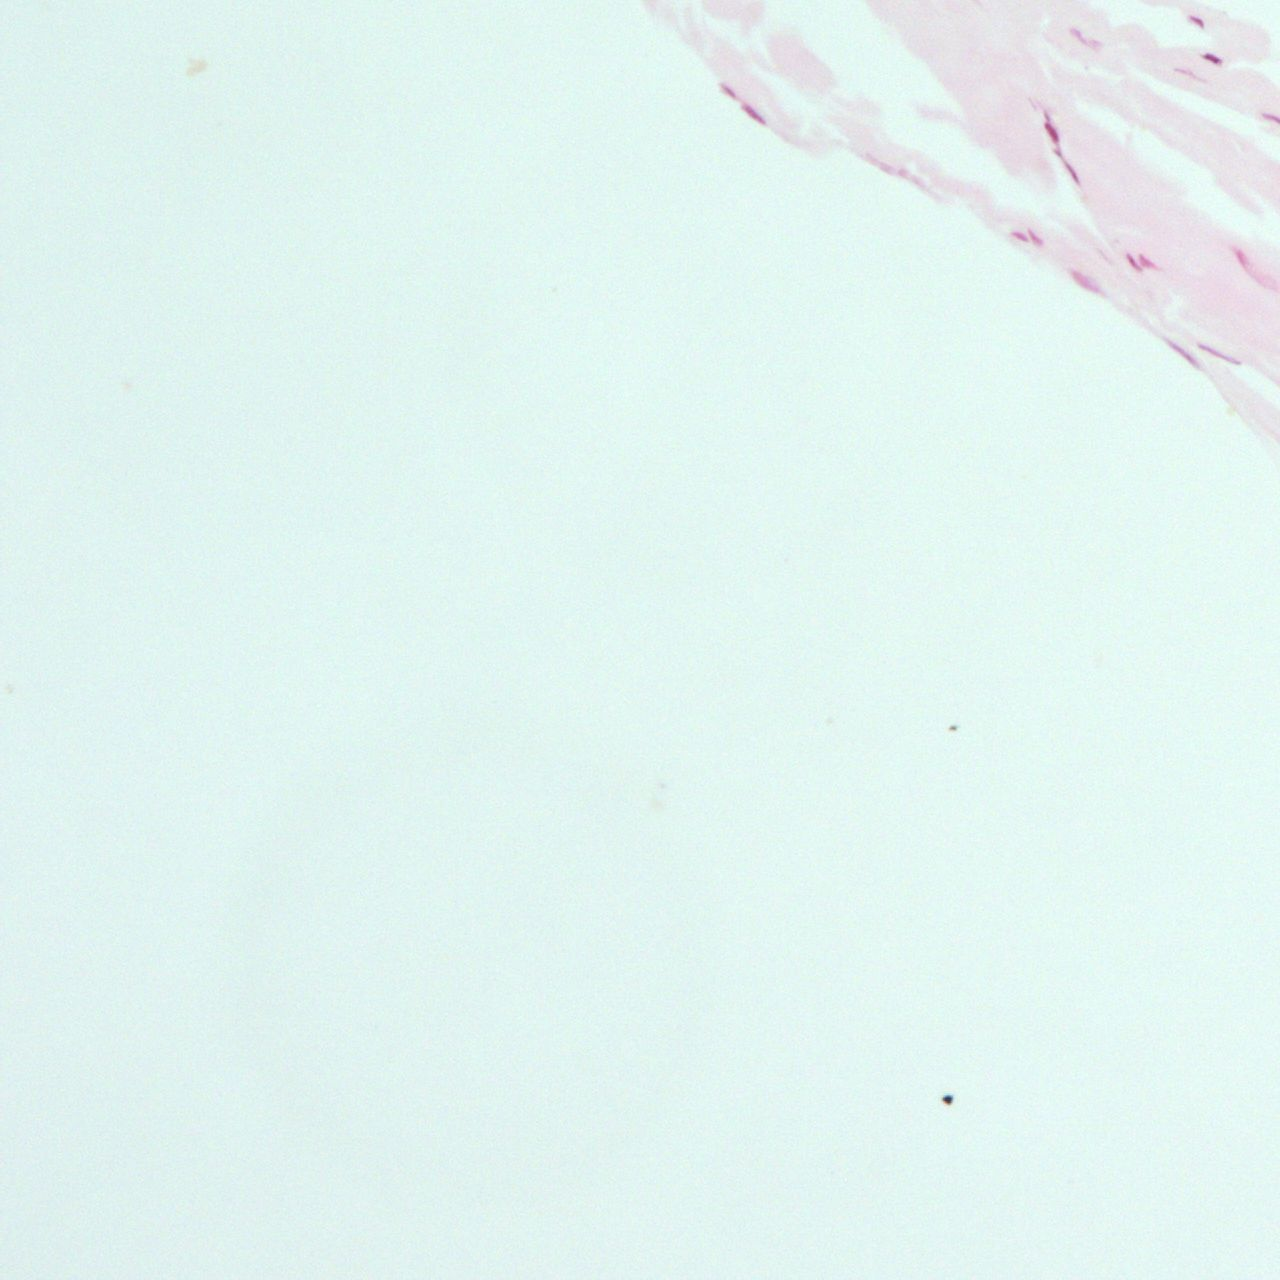dust: (941, 1095, 954, 1104), (948, 724, 958, 730)
nucleus-AC: (1227, 241, 1278, 293), (1165, 339, 1205, 372), (1068, 267, 1105, 299), (1051, 147, 1082, 185), (1198, 342, 1242, 367), (1067, 23, 1101, 50), (741, 101, 767, 127), (1136, 253, 1160, 275), (1023, 226, 1046, 247), (1173, 63, 1200, 80), (1125, 253, 1144, 275), (1043, 120, 1060, 143), (1201, 49, 1223, 67), (1185, 12, 1207, 28), (1010, 229, 1030, 245), (719, 82, 736, 98), (1039, 108, 1051, 124)
